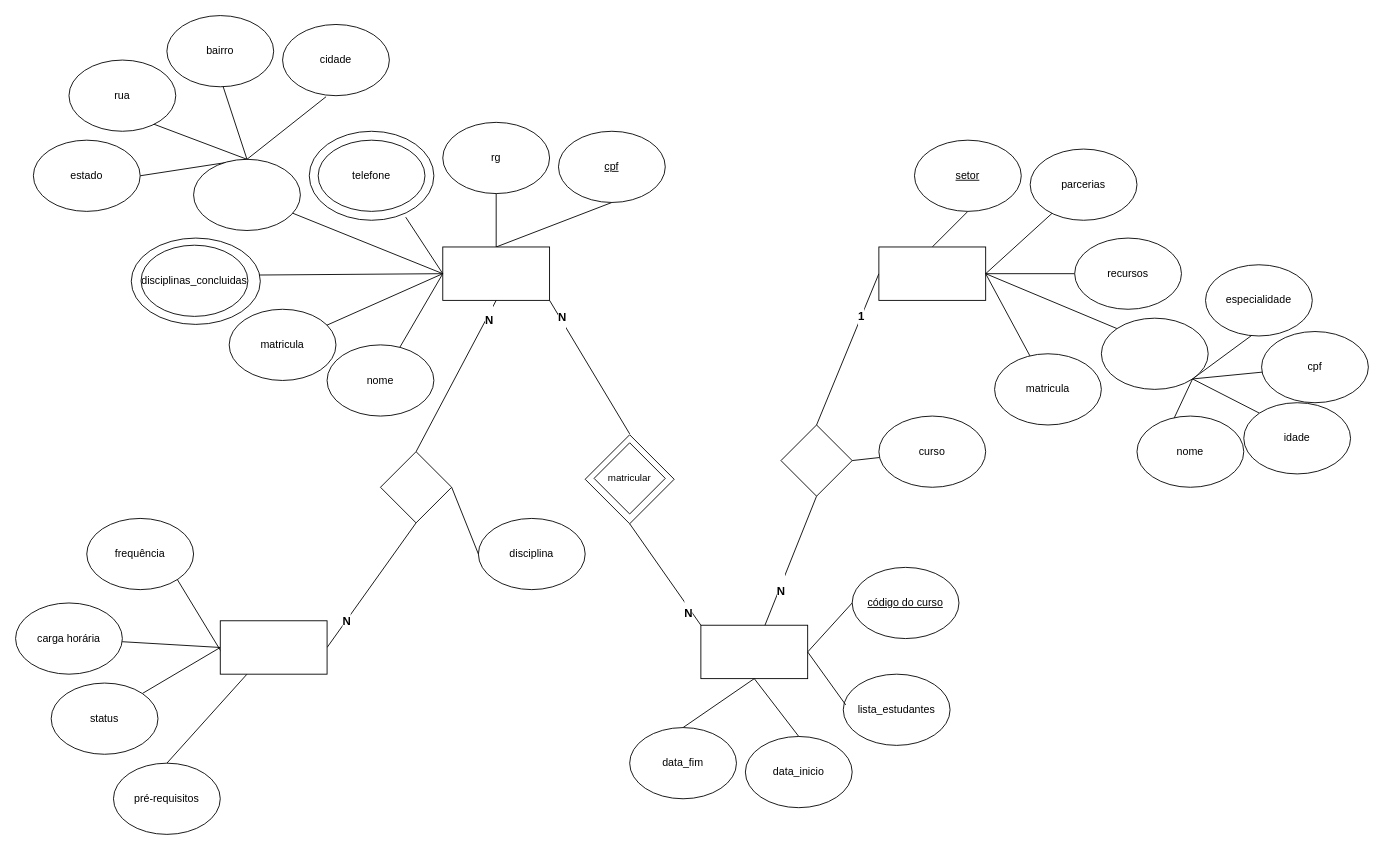
The diagram is 1384 pixels wide and 850 high, and some of its shapes have lost their labels. Each missing label, with the centre of its shape:
alunoID: [496,273]
cursar: [416,487]
cursoID: [754,651]
departamentoID: [932,273]
disciplinasID: [273,647]
docente: [1154,353]
endereço: [246,194]
ter: [816,460]
